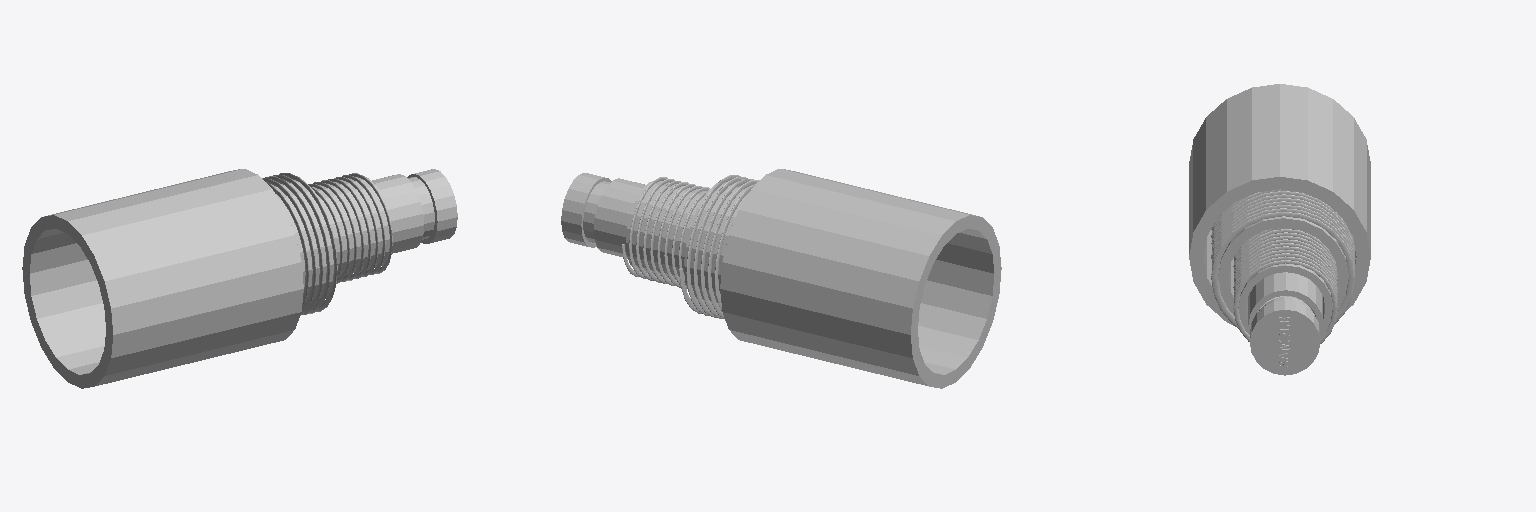
Rendered from tinker 3.obj.
The picture shows the model from 3 angles: view 1: azimuth 30°, elevation 25°; view 2: azimuth 150°, elevation 25°; view 3: azimuth 270°, elevation 25°; orthographic projection.
Visible parts, largest first — view 1: obj_0; view 2: obj_0; view 3: obj_0.
Boxes of the visible parts, <box> form: obj_0: <box>22,169,457,388</box>; obj_0: <box>561,169,1001,388</box>; obj_0: <box>1189,84,1370,375</box>.
Bounding box in the file's own units: 196 × 80 × 81.89.